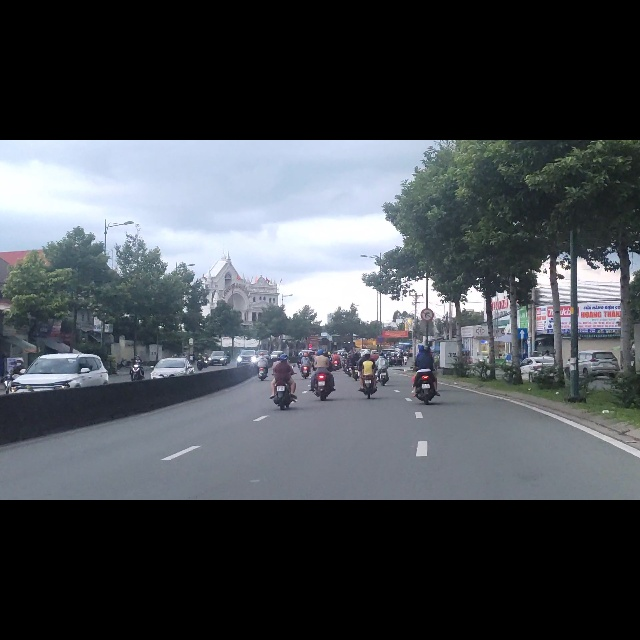bien_cam: (421, 299, 434, 322), (517, 334, 528, 354)
